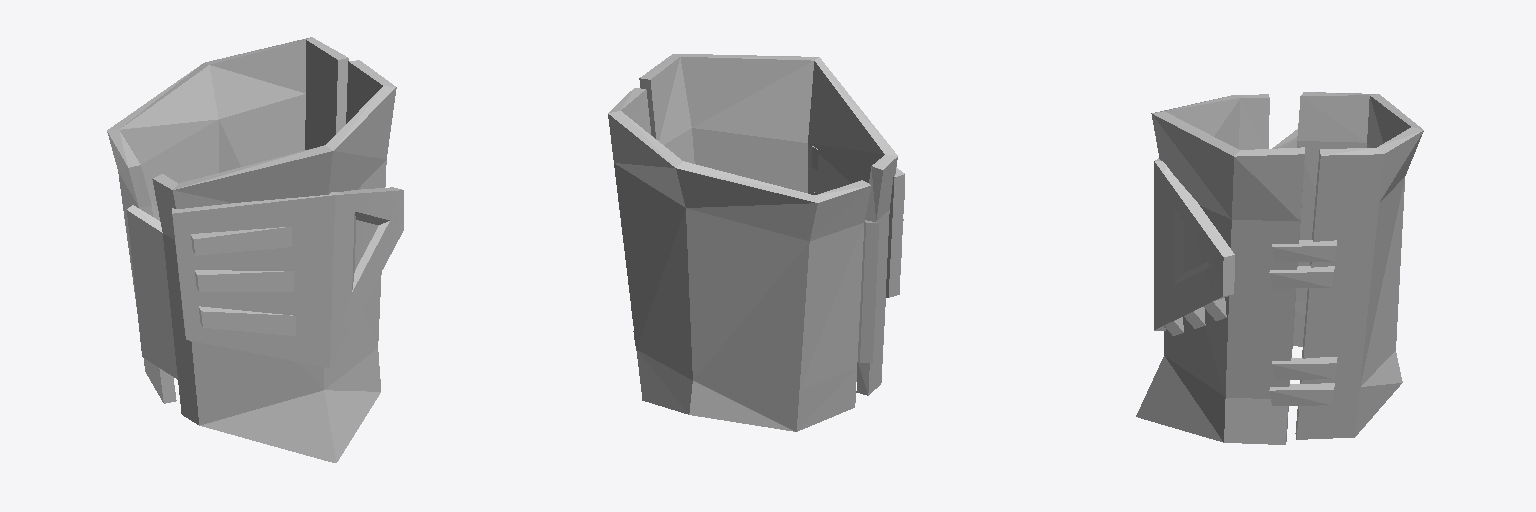
Rendered from thigh armor left.obj.
The picture shows the model from 3 angles: view 1: azimuth 30°, elevation 25°; view 2: azimuth 150°, elevation 25°; view 3: azimuth 270°, elevation 25°; orthographic projection.
Parts seen in each view (by area): view 1: Circle.021; view 2: Circle.021; view 3: Circle.021.
Boxes of the visible parts, box(x1,y1,x2,y2) form: Circle.021: box(107, 37, 403, 462); Circle.021: box(608, 54, 904, 431); Circle.021: box(1136, 92, 1423, 444).
Size of the model in its own units: 0.3792 by 0.4817 by 0.3939.